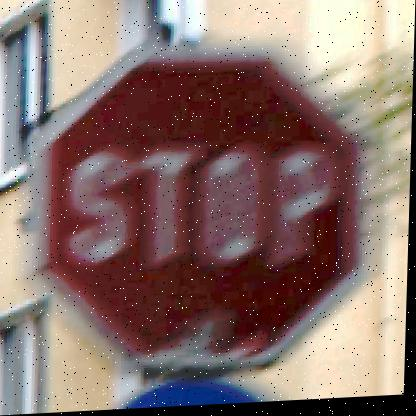Stop Sign: (25, 33, 371, 375)
